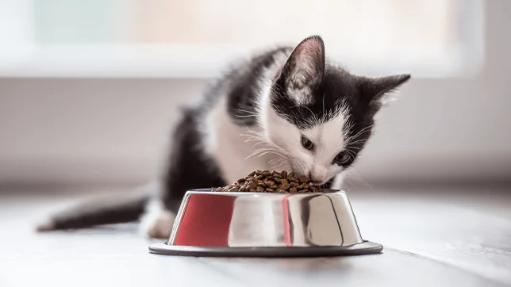cat_eating: (37, 36, 411, 258)
